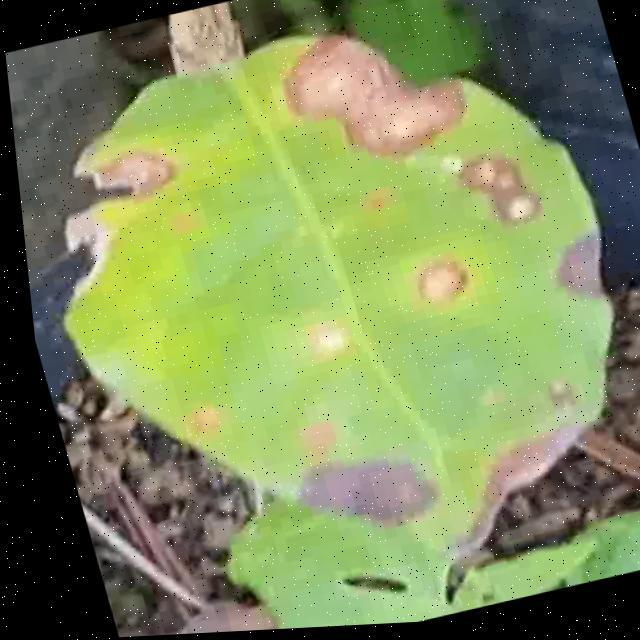leaves: (9, 0, 640, 592)
